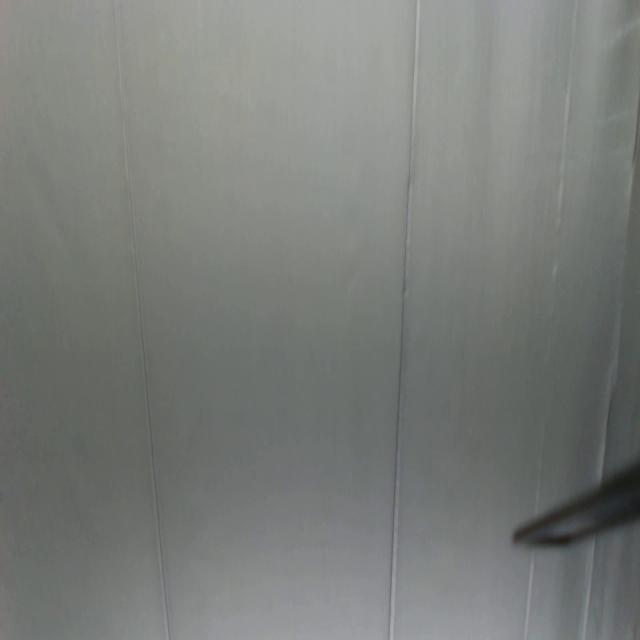crease: (111, 0, 173, 640), (385, 0, 425, 637), (536, 2, 582, 490), (601, 93, 640, 464), (581, 540, 597, 640), (523, 550, 537, 638)
